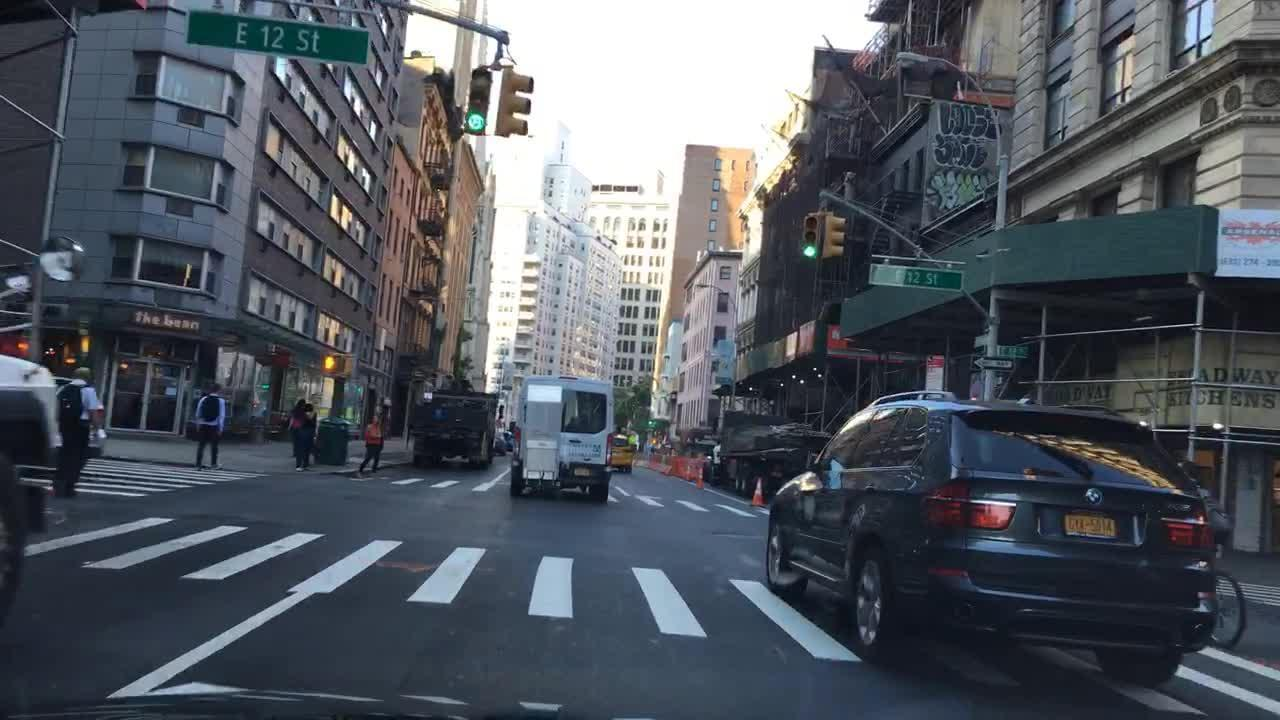bmw: (1083, 486, 1108, 510)
